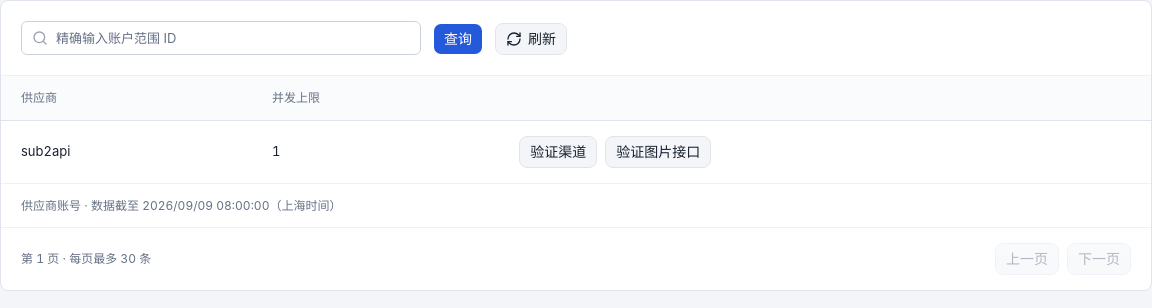
Scenario: verifies a configured third-party provider from the provider account list
Check: the text "sub2api" is shown, box [1,120,252,182]
Click the button "验证渠道": click(558, 152) [519,136,597,168]
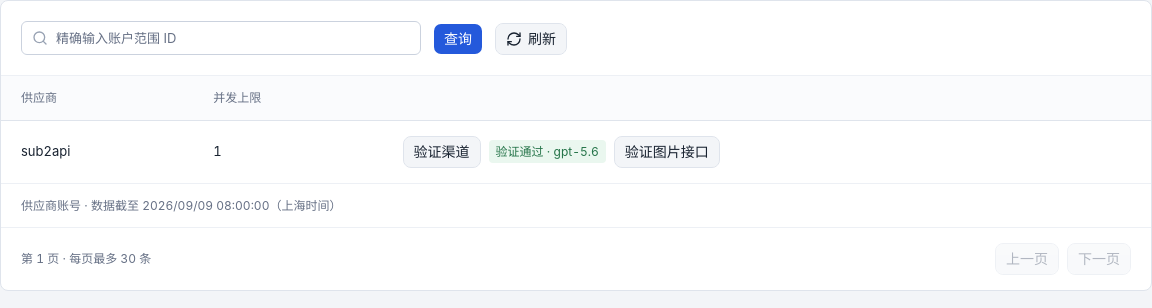
Check: the text "验证通过 · gpt-5.6" is shown, box [489,140,606,163]
